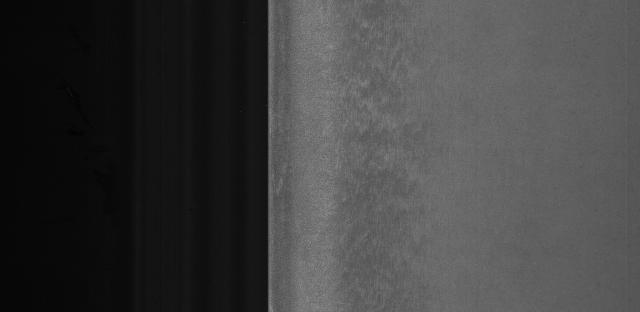silk_spot: (336, 29, 434, 276)
